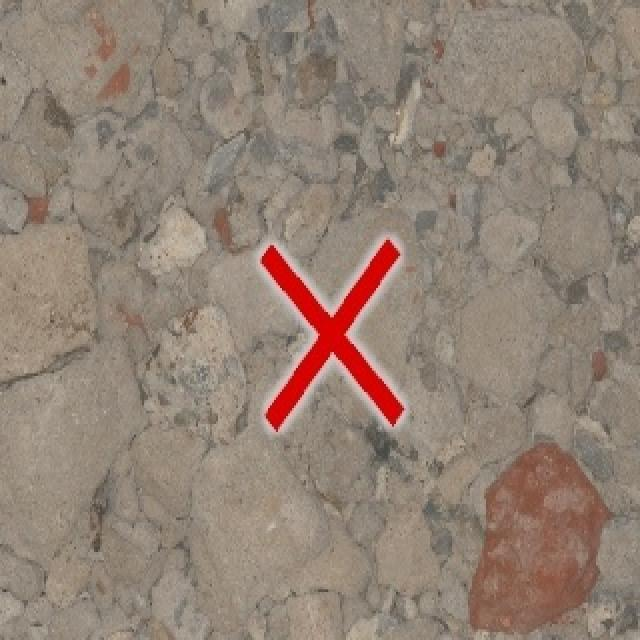x_marker: (259, 239, 403, 428)
